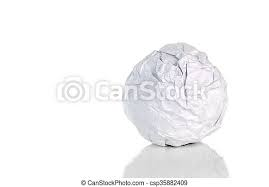crumpled paper: (119, 41, 225, 139)
